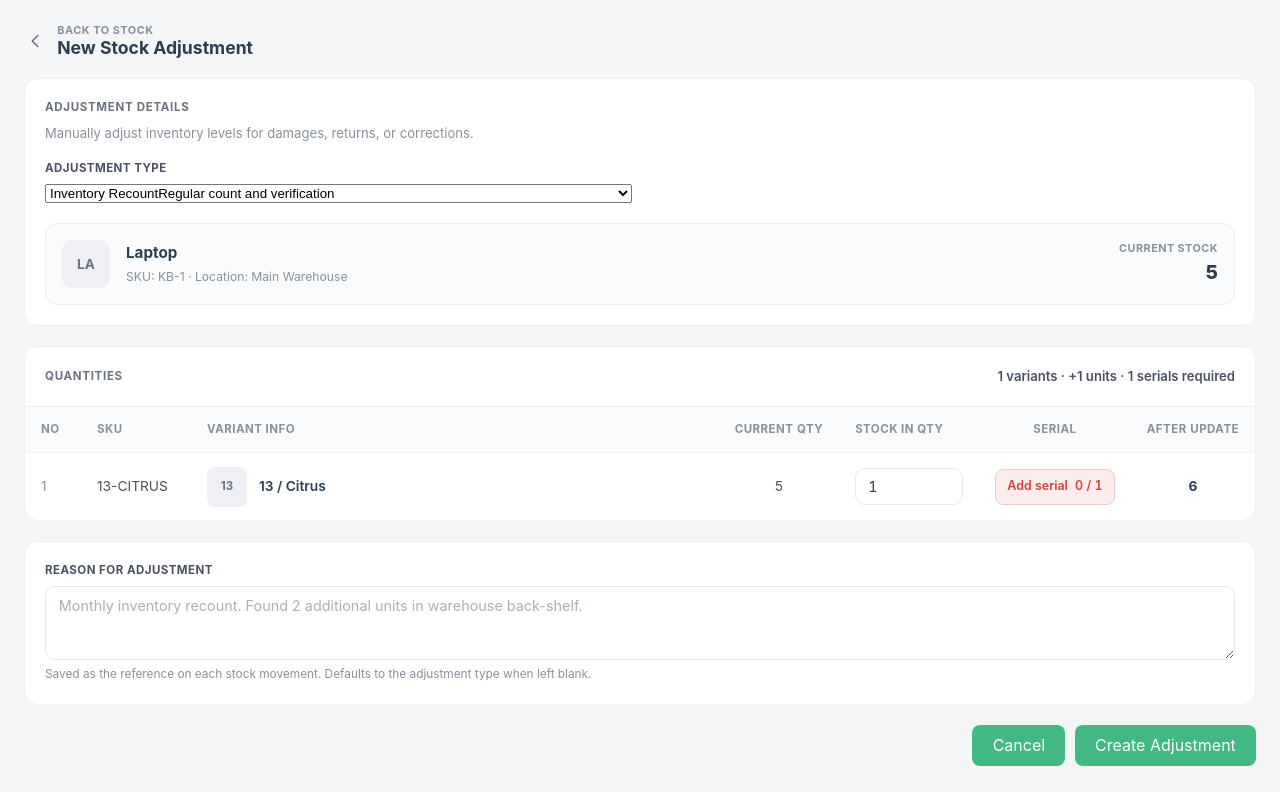
Scenario: StockAdjustmentFormView variant serials › shows the field message the API rejects the save with, not the generic one
Click the button with class "serial-trigger". click: (1055, 486)
box: top-left (995, 468), bottom-right (1115, 504)
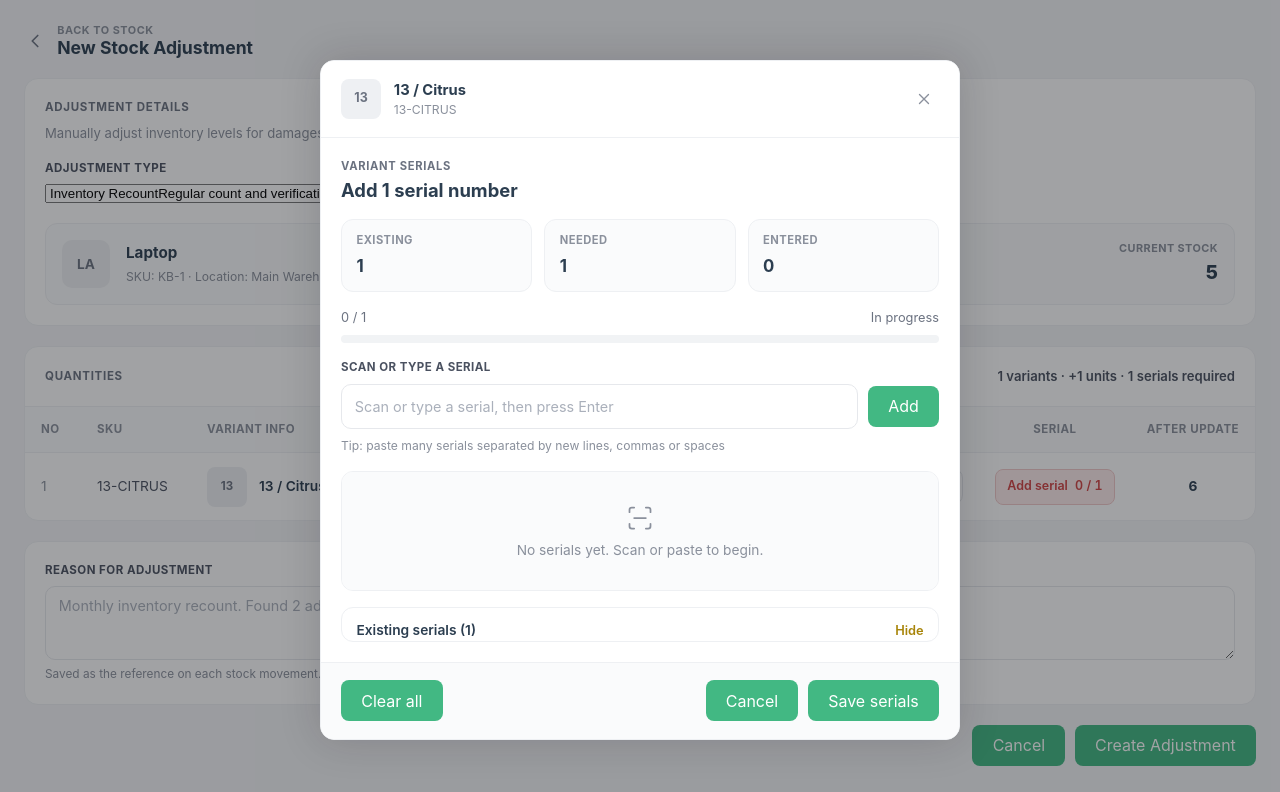
Type "sn-new" into the field with id "serial-modal-input". click: (600, 406)
box: top-left (341, 384), bottom-right (858, 429)
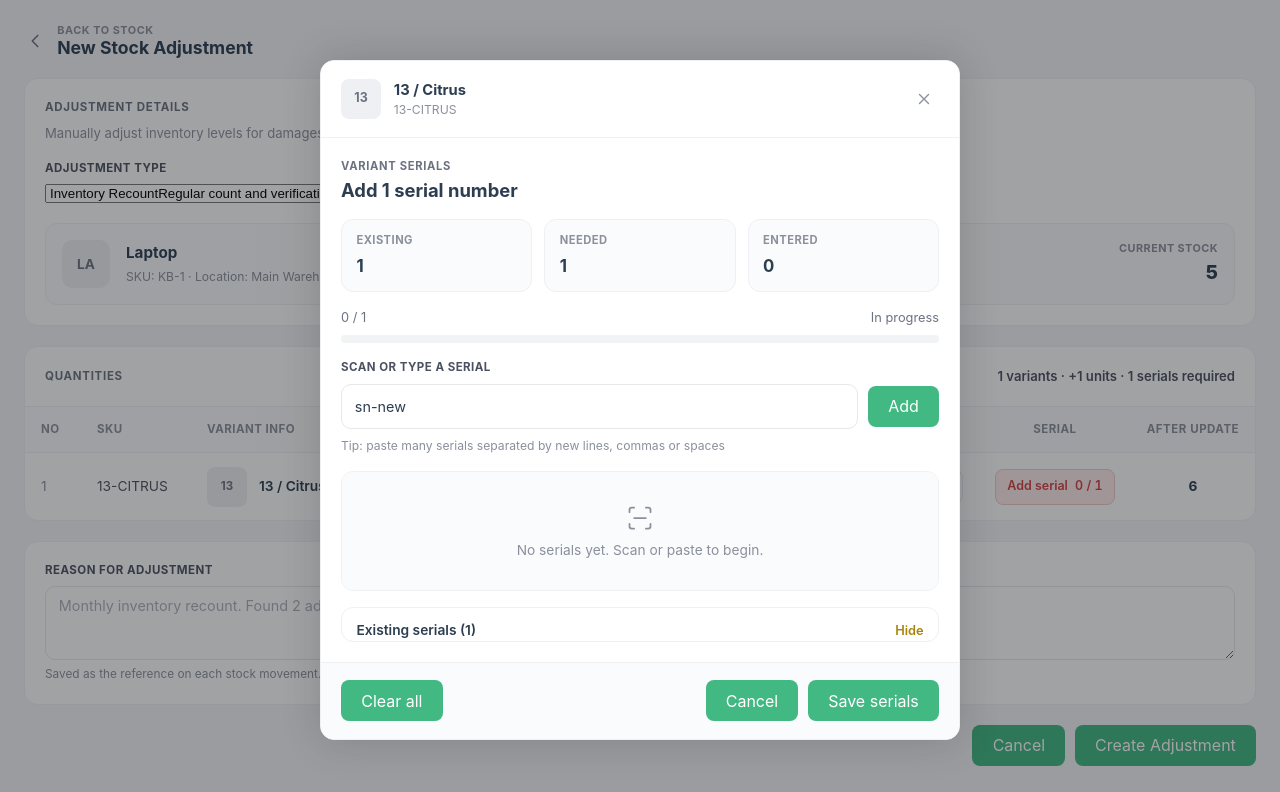
Press Enter in the field with id "serial-modal-input", box top-left (341, 384), bottom-right (858, 429)
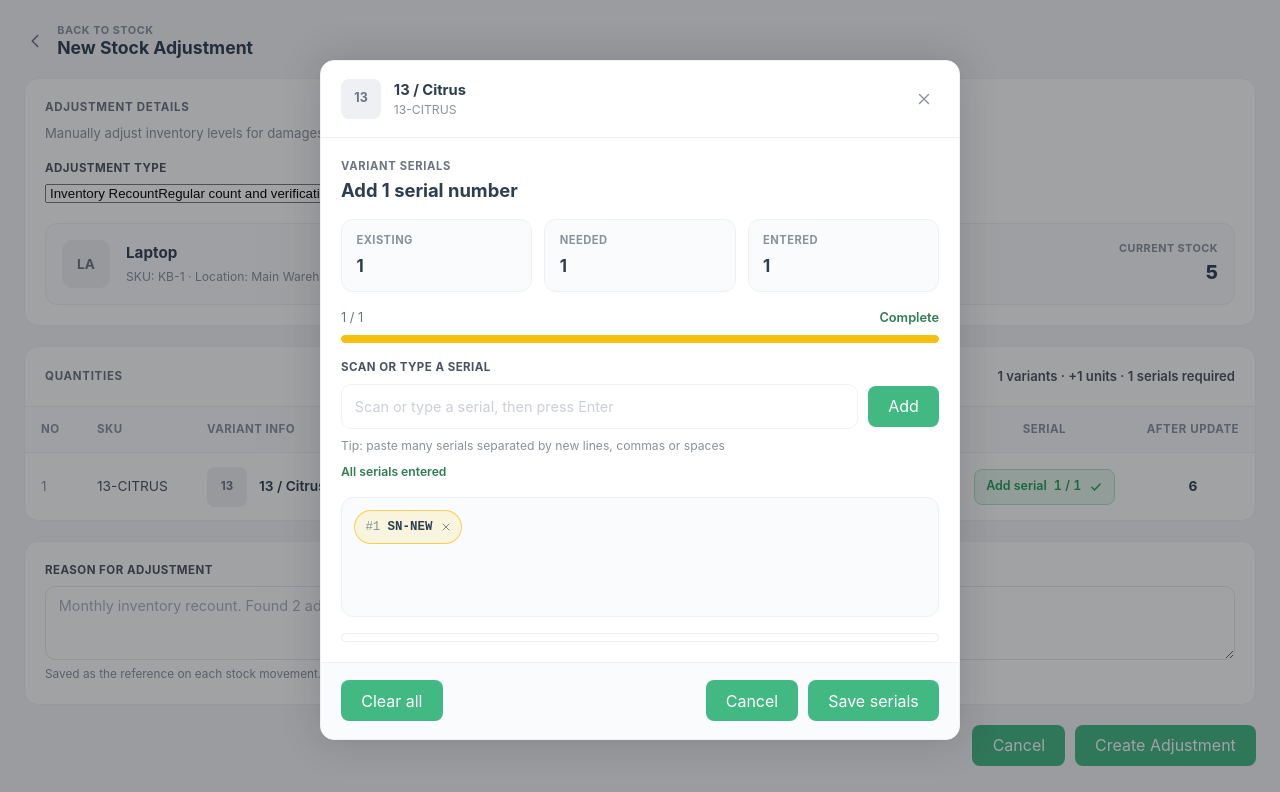
Click the button "Save serials". click: (874, 701)
box: top-left (808, 680), bottom-right (939, 721)
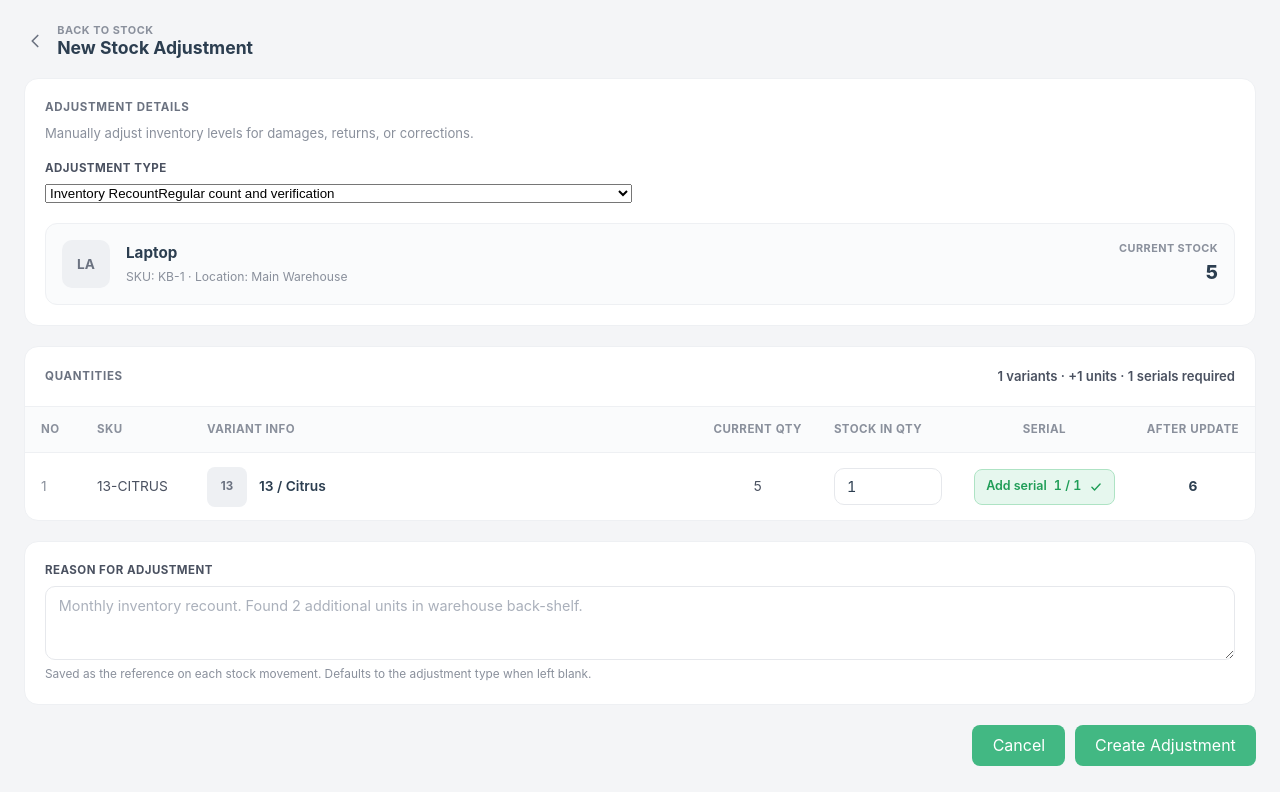
Click the button "Create Adjustment". click: (1165, 745)
box: top-left (1075, 725), bottom-right (1256, 766)
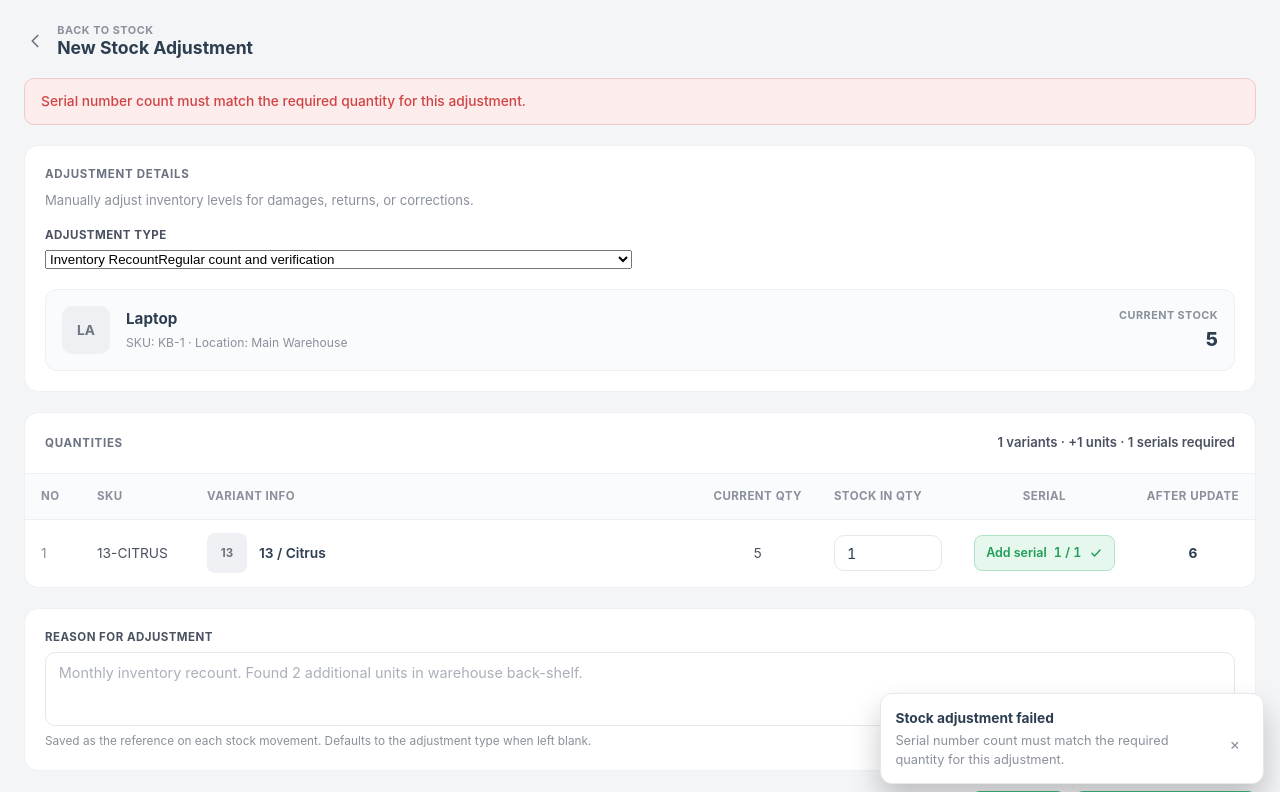
Check: the message with class "alert--error" reads "Serial number count must match the required quantity for this adjustment.", box top-left (41, 93), bottom-right (526, 109)
